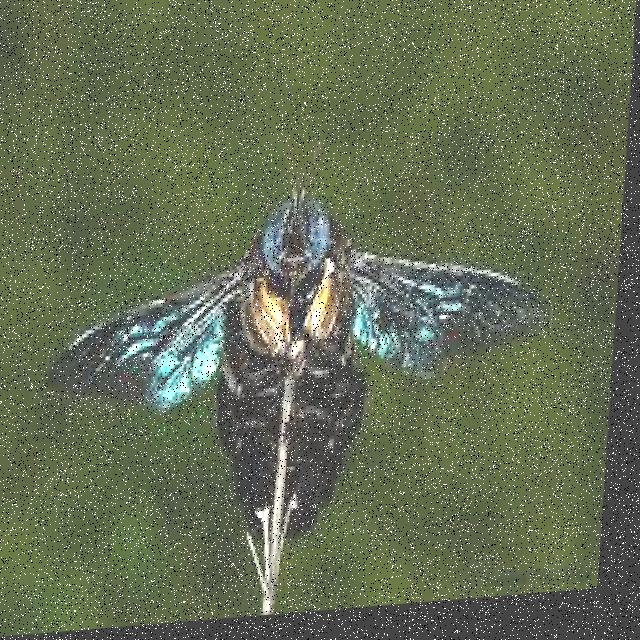Xylocopa: (35, 141, 561, 584)
